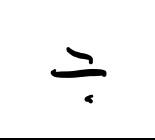div: (47, 45, 108, 110)
